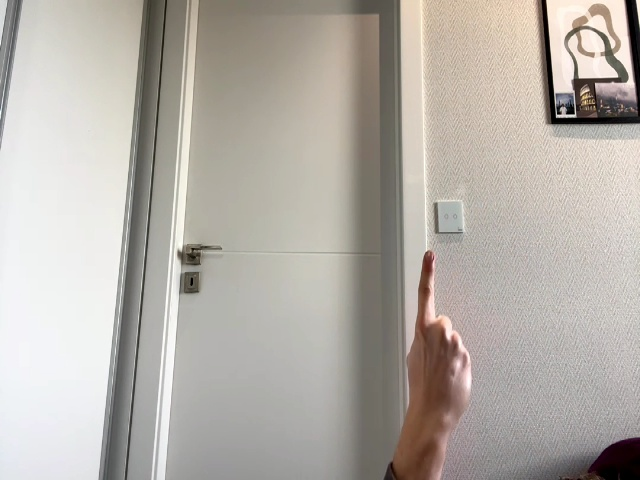D: (406, 251, 472, 423)
